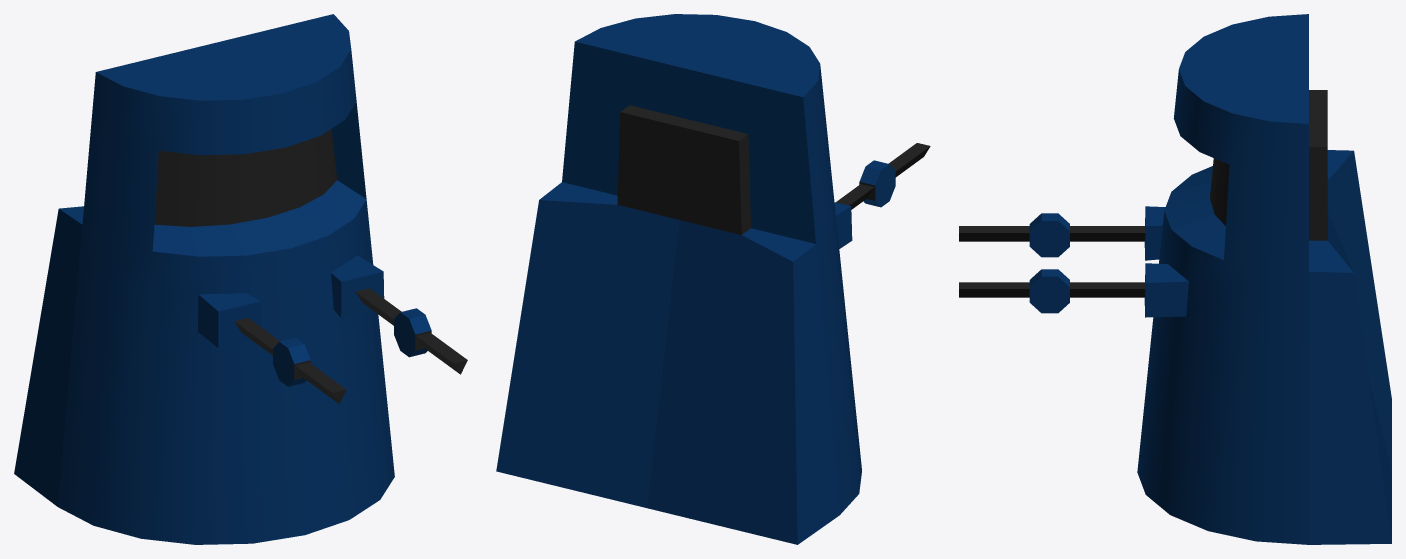
The model's file is robot_main.fbx.
3 renders of one model, left to right at view 1: azimuth 30°, elevation 25°; view 2: azimuth 150°, elevation 25°; view 3: azimuth 270°, elevation 25°, orthographic. The views are drawn at different scales.
Visible parts, largest first — view 1: robot1; view 2: robot1; view 3: robot1.
Boxes of the visible parts, x1,y1,x2,y2 form: robot1: (14,14,467,544); robot1: (496,14,930,544); robot1: (959,14,1391,544).
Bounding box in the file's own units: 8.47 × 10.98 × 10.68.
